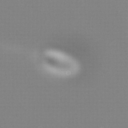normal: (1, 38, 40, 62)
